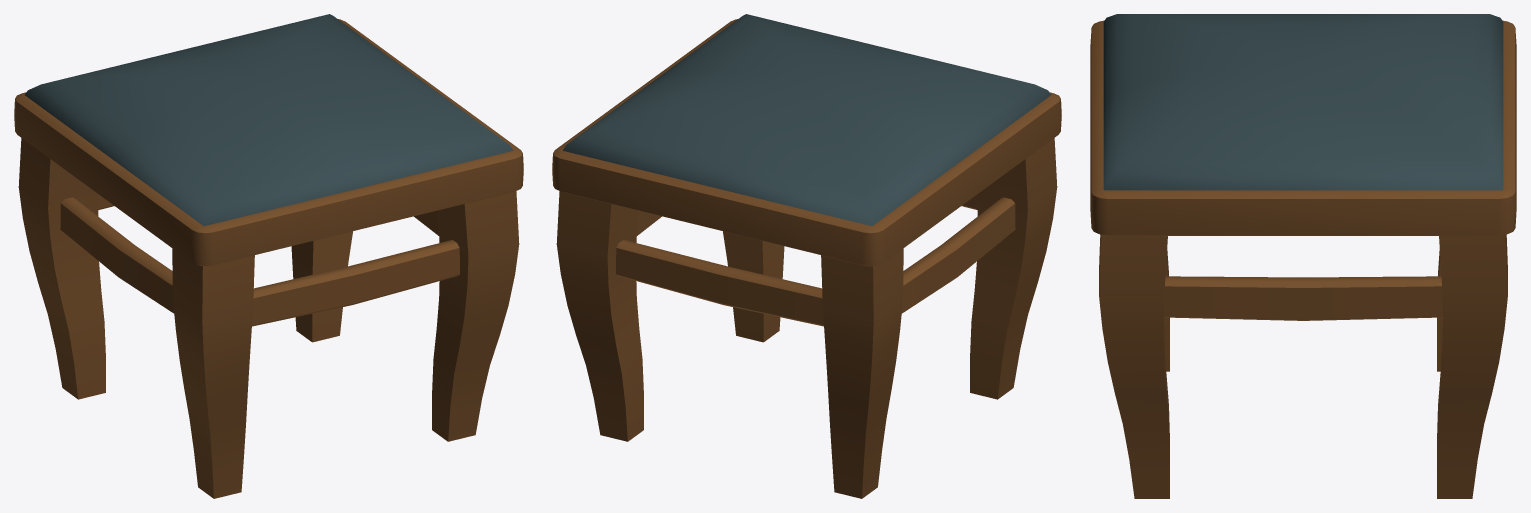
File: 091_stool.glb
3 views of the same model, side by side, from view 1: azimuth 30°, elevation 25°; view 2: azimuth 150°, elevation 25°; view 3: azimuth 270°, elevation 25° (orthographic). The views are drawn at different scales.
Visible parts, largest first — view 1: Plane.003; view 2: Plane.003; view 3: Plane.003.
Boxes of the visible parts, x1,y1,x2,y2 form: Plane.003: (14, 14, 523, 498); Plane.003: (552, 14, 1061, 498); Plane.003: (1090, 14, 1516, 498).
Size of the model in its own units: 0.7058 by 0.6653 by 0.708.
